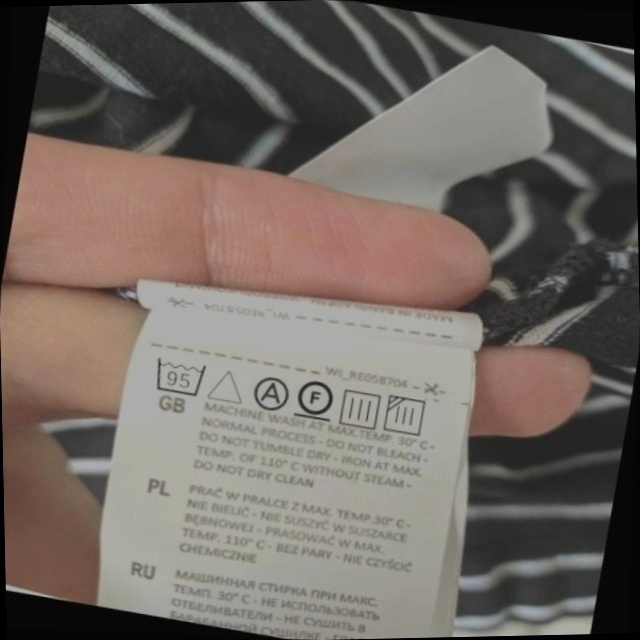95C: (149, 352, 211, 401)
bleach: (206, 361, 248, 409)
drip_dry: (335, 384, 386, 433)
drip_dry_in_shade: (381, 391, 433, 442)
dry_clean: (248, 372, 293, 415)
dry_clean_petrol_only: (293, 372, 339, 424)
